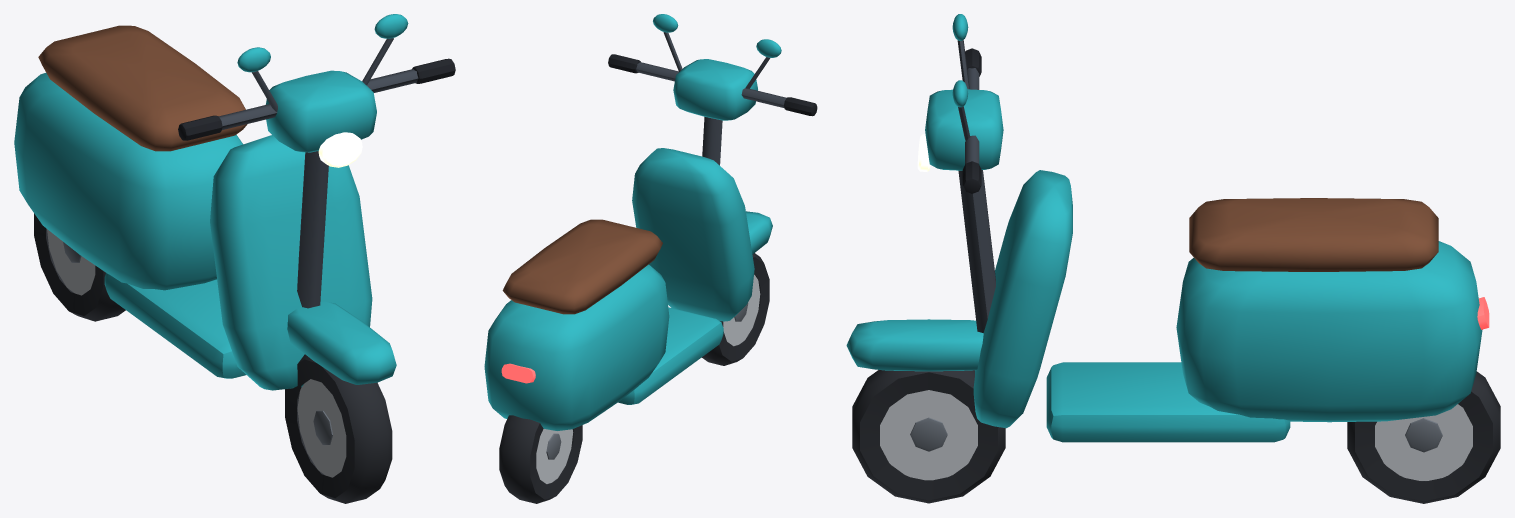
File: scooter_turquesa.glb
3 renders of one model, left to right at view 1: azimuth 30°, elevation 25°; view 2: azimuth 150°, elevation 25°; view 3: azimuth 270°, elevation 25°, orthographic. The views are drawn at different scales.
Parts seen in each view (by area): view 1: scooter_turquesa, roda_dianteira, roda_traseira; view 2: scooter_turquesa, roda_traseira, roda_dianteira; view 3: scooter_turquesa, roda_dianteira, roda_traseira.
Boxes of the visible parts, <box> form: scooter_turquesa: <box>14,14,455,390</box>; roda_dianteira: <box>285,354,392,503</box>; roda_traseira: <box>34,213,125,321</box>; scooter_turquesa: <box>484,14,817,430</box>; roda_traseira: <box>499,415,582,503</box>; roda_dianteira: <box>702,253,769,365</box>; scooter_turquesa: <box>846,14,1489,442</box>; roda_dianteira: <box>852,370,1005,503</box>; roda_traseira: <box>1347,371,1500,503</box>.
Bounding box in the file's own units: 0.79 × 1.26 × 1.66.
3 materials, 1 textured.
